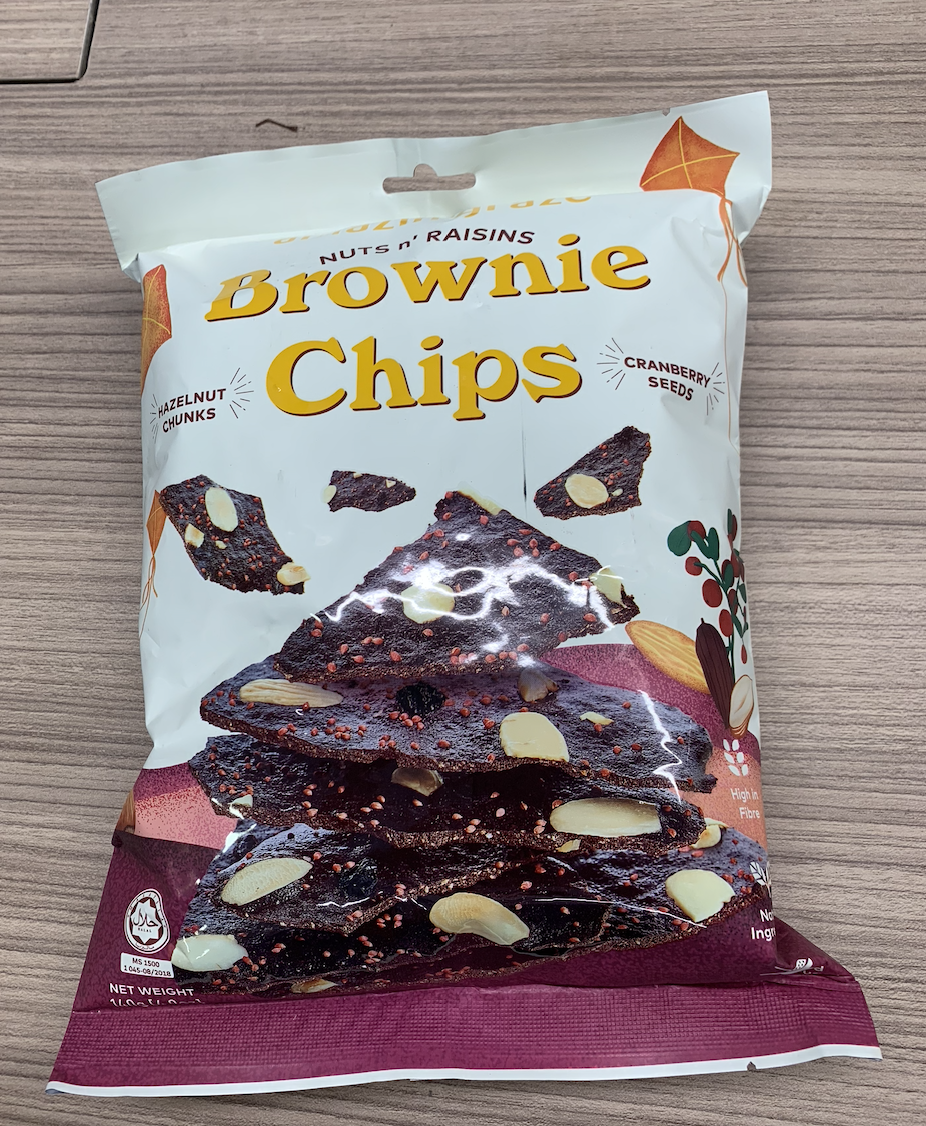crackers_100g-199g: (119, 206, 735, 1010)
